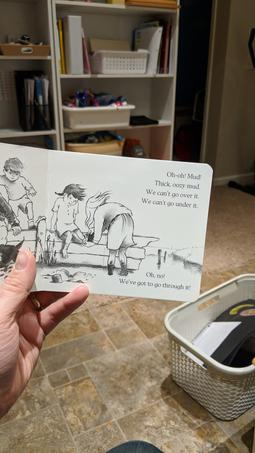text block: (129, 165, 205, 216), (114, 263, 193, 298)
